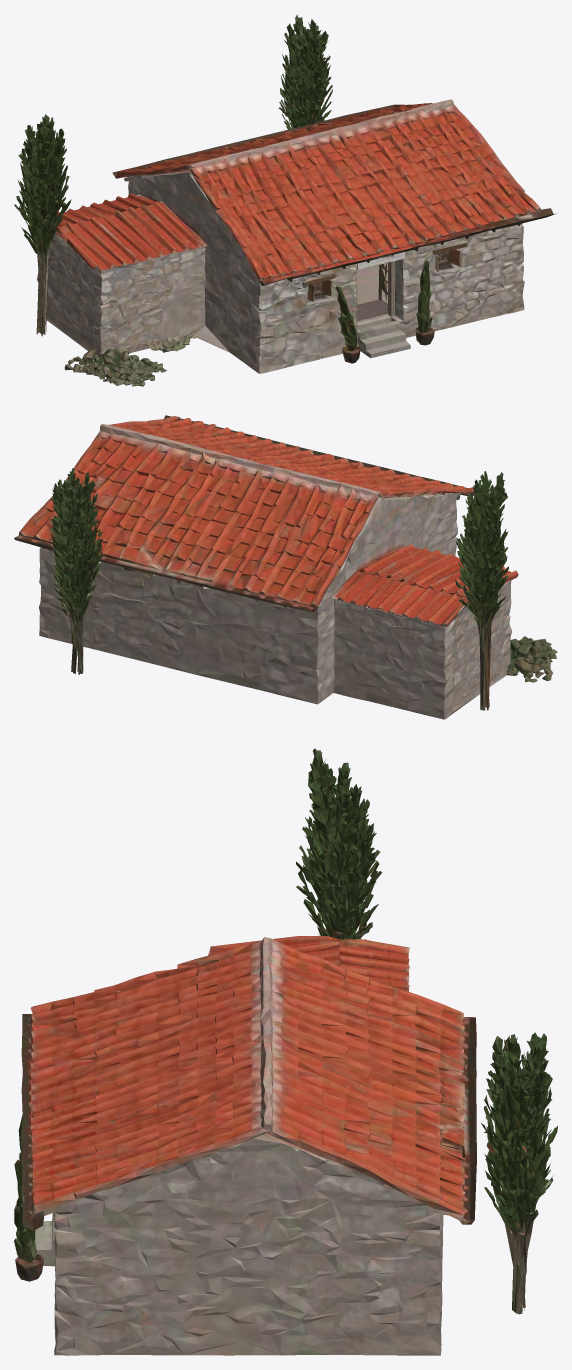
The model's file is house_lucius_carnuntum_a.meshy.reduced.glb.
The picture shows the model from 3 angles, top to bottom: view 1: azimuth 30°, elevation 25°; view 2: azimuth 150°, elevation 25°; view 3: azimuth 270°, elevation 25°; orthographic projection. The views are drawn at different scales.
Size of the model in its own units: 1.88 by 0.9171 by 1.39.
1 material, 1 textured.
